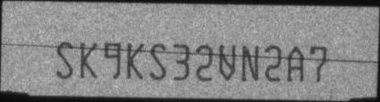2: (195, 44, 213, 81), (265, 44, 281, 82)
3: (173, 42, 190, 81)
7: (310, 45, 328, 82)
9: (103, 40, 121, 78)
A: (286, 45, 303, 83)
K: (80, 40, 98, 79), (126, 40, 143, 79)
N: (241, 44, 260, 82)
S: (55, 41, 75, 79), (149, 42, 168, 80)
V: (219, 44, 237, 81)
